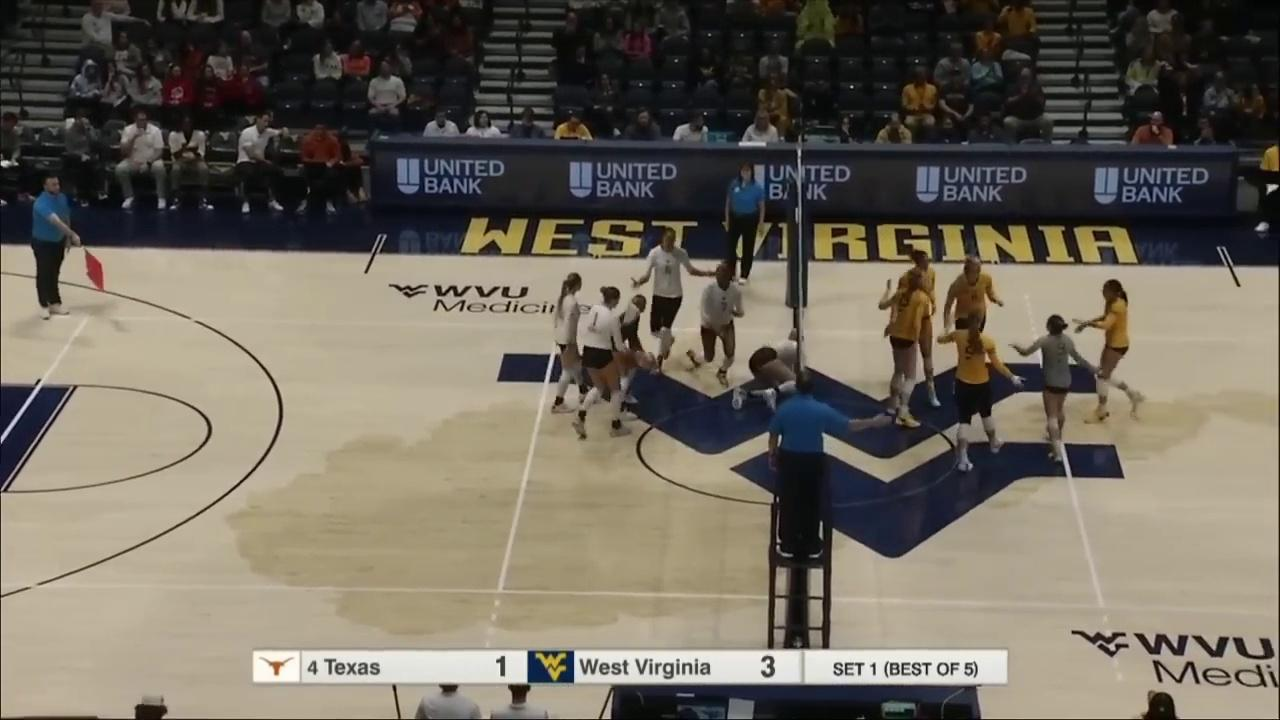player: (634, 227, 718, 370), (941, 306, 1011, 469), (1023, 313, 1094, 460), (1077, 280, 1145, 424), (573, 284, 629, 438), (943, 255, 1001, 390), (892, 247, 940, 407), (882, 277, 933, 425), (554, 273, 599, 413), (689, 265, 743, 381), (731, 330, 805, 409), (596, 295, 649, 405)
refree: (767, 372, 885, 554), (31, 173, 94, 319), (724, 164, 766, 285)
